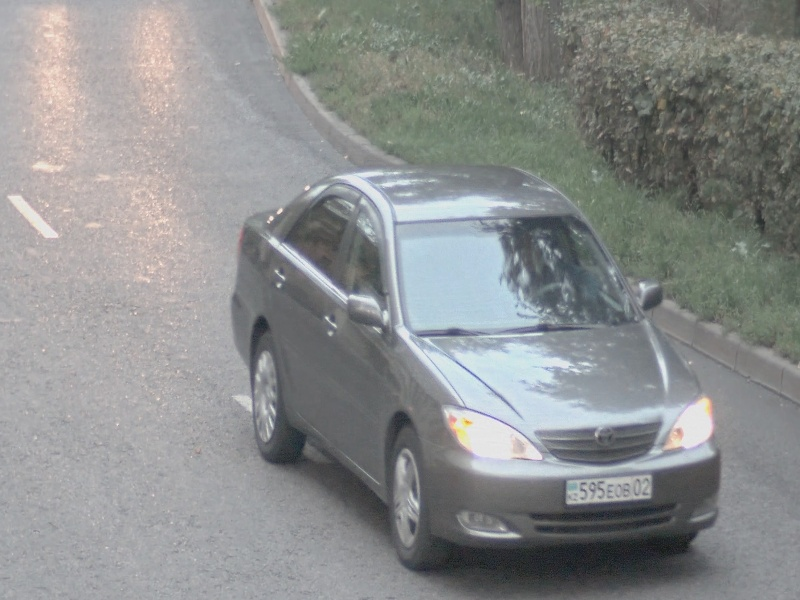plate: (560, 469, 657, 509)
